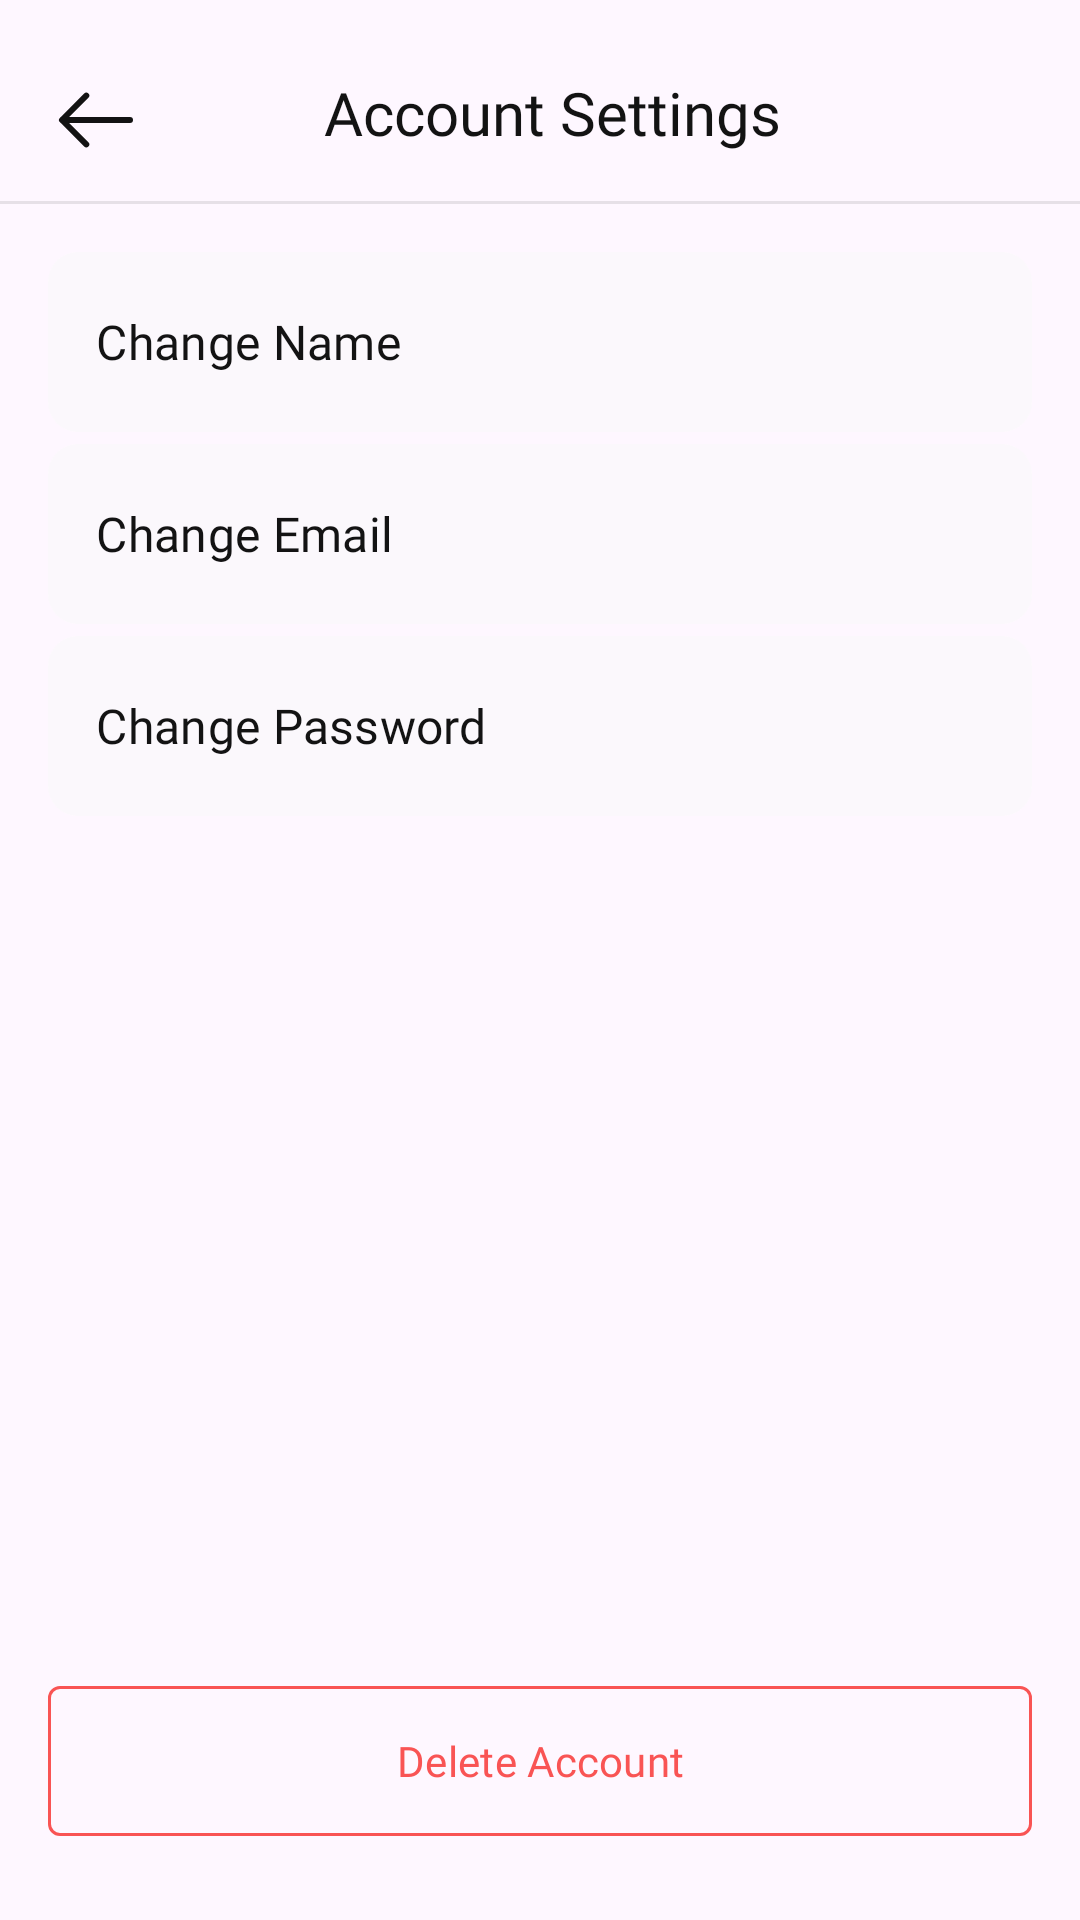

Where to tap for icons on this 1080px×1920px app screen, as (x,y):
back: (96,120)
